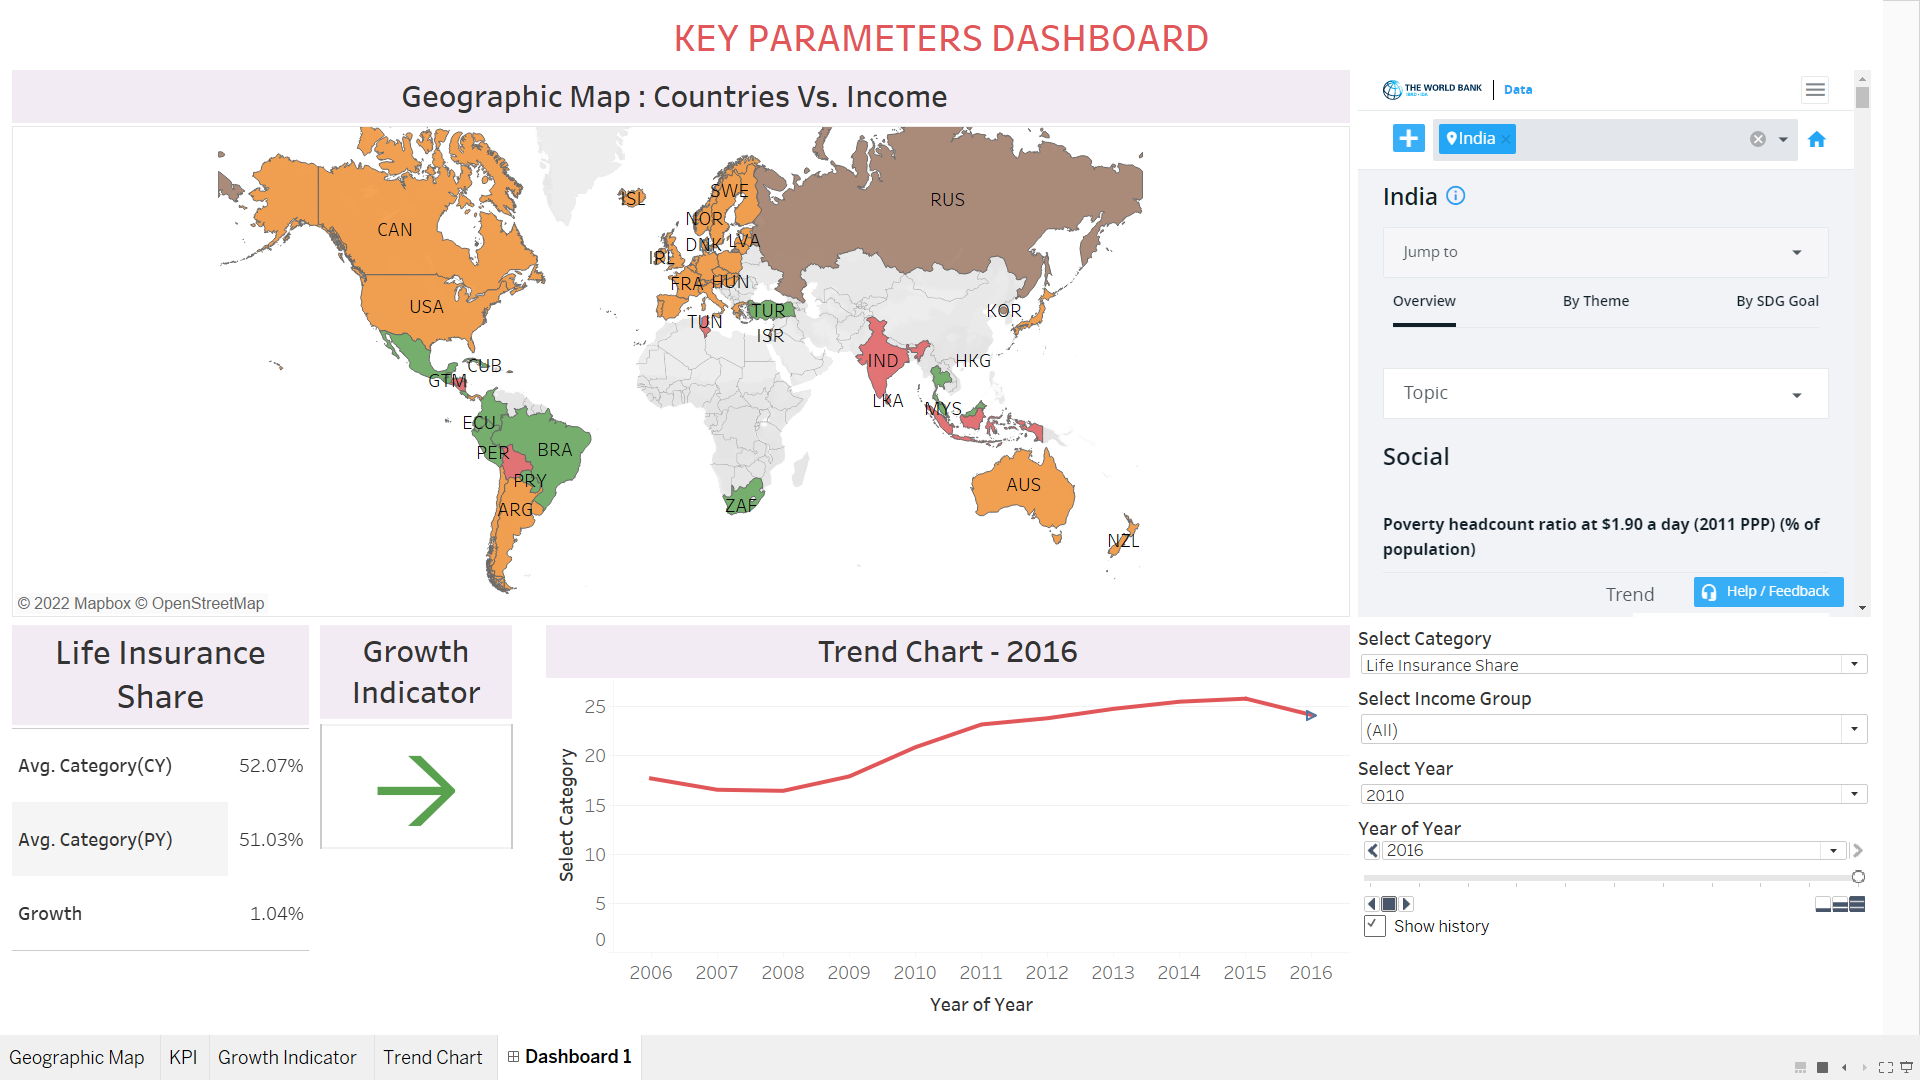

This screenshot's page, from the dashboard's own definition file:
{"tool":"tableau","page":{"name":"Dashboard 1","canvas":[1000,1000],"units":"permille","ordinal":0},"visuals":[{"type":"text","box":[5.1,9.8,989.8,56.2]},{"type":"worksheet","title":"Geographic Map","mark":"Multipolygon","box":[5.1,66,713.5,533.5]},{"type":"web page","param":"https://data.worldbank.org/country/India?view=chart","box":[718.6,66,276.3,533.5]},{"type":"worksheet","title":"KPI","mark":"Text","box":[5.1,599.5,211.2,390.7]},{"type":"worksheet","title":"Growth Indicator","mark":"Automatic","box":[216.3,599.5,145.5,390.7]},{"type":"worksheet","title":"Trend Chart","mark":"Shape","rows":["Calculation_651333162608881664"],"cols":["Year"],"box":[361.9,599.5,356.7,390.7]},{"type":"parameter","param":"[Parameters].[Parameter 2]","box":[718.6,599.5,276.3,73.4]},{"type":"filter","title":"Geographic Map","param":"[federated.07ozstf1wno9111ffhac21vvxxrc].[none:income:nk]","box":[718.6,672.8,276.3,85.6]},{"type":"parameter","param":"[Parameters].[Parameter 1]","box":[718.6,758.4,276.3,73.4]},{"type":"currpage","title":"Trend Chart","box":[718.6,831.8,276.3,158.5]}]}

Visuals, with their boxes on the dashboard's canvas, which has no fixed pixel size, in thousandths of its width and height (x1, y1, x2, y2). These are canvas units, not pixel positions in the 1920x1080 screenshot, which may show the page scaled, cropped or inside an application window:
text: <box>5,10,995,66</box>
"Geographic Map" worksheet (Multipolygon marks): <box>5,66,719,600</box>
web page: <box>719,66,995,600</box>
"KPI" worksheet (Text marks): <box>5,600,216,990</box>
"Growth Indicator" worksheet: <box>216,600,362,990</box>
"Trend Chart" worksheet (Shape marks): <box>362,600,719,990</box>
parameter: <box>719,600,995,673</box>
"Geographic Map" filter: <box>719,673,995,758</box>
parameter: <box>719,758,995,832</box>
"Trend Chart" currpage: <box>719,832,995,990</box>
